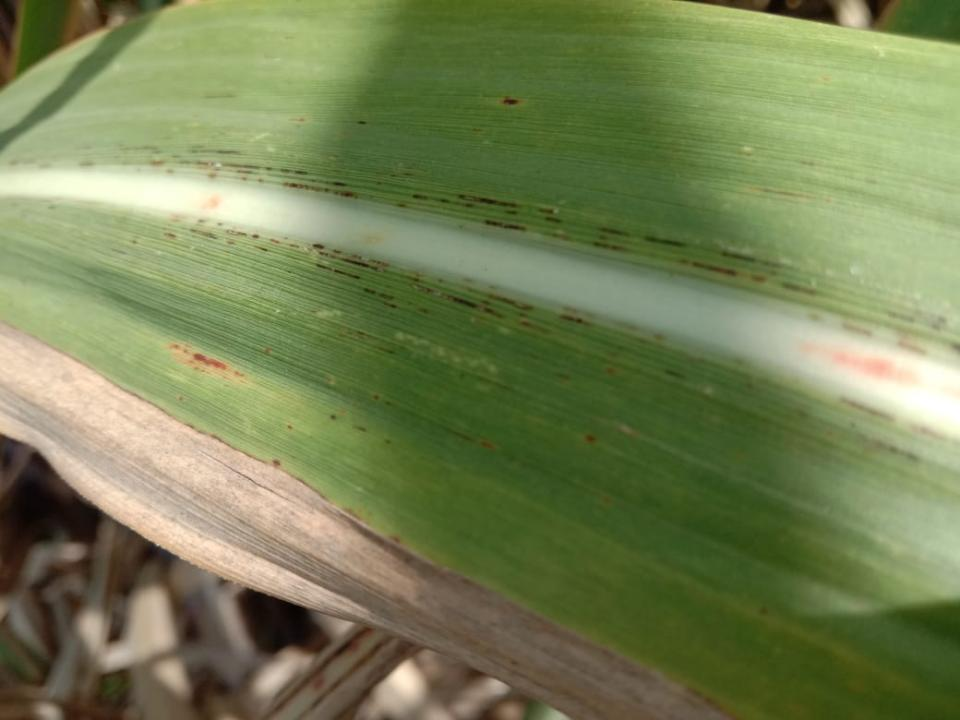RedRot: (800, 341, 920, 387), (200, 193, 220, 214)
Rust: (410, 282, 504, 318), (169, 343, 247, 385), (676, 254, 769, 285), (857, 432, 923, 466), (748, 184, 835, 205), (835, 394, 896, 422), (908, 420, 959, 450), (280, 180, 359, 199), (720, 248, 786, 270), (194, 160, 260, 181), (590, 225, 630, 253), (340, 252, 390, 272), (892, 329, 928, 356), (288, 242, 343, 258), (457, 194, 517, 208), (487, 293, 533, 310), (641, 233, 689, 249), (315, 263, 360, 279), (781, 279, 816, 297), (190, 145, 252, 155), (118, 140, 162, 154), (517, 319, 552, 335), (842, 322, 872, 337), (486, 220, 525, 231), (560, 306, 595, 318), (363, 288, 394, 301), (449, 427, 473, 443), (618, 423, 641, 439), (887, 310, 914, 323), (559, 314, 590, 325), (337, 329, 368, 340), (663, 368, 687, 381), (190, 229, 216, 240), (930, 315, 947, 331), (280, 167, 309, 175), (553, 371, 569, 384), (374, 346, 394, 356), (325, 180, 349, 188), (501, 96, 520, 105), (583, 433, 598, 443), (536, 208, 560, 214), (481, 440, 495, 450), (202, 94, 237, 98), (110, 248, 128, 255), (226, 230, 247, 236), (382, 301, 397, 309), (553, 233, 568, 241), (149, 158, 164, 166), (479, 298, 493, 306), (546, 217, 562, 224), (253, 245, 268, 252), (79, 161, 96, 167), (605, 367, 619, 374), (163, 233, 177, 240), (654, 332, 666, 340), (808, 313, 819, 321), (325, 375, 334, 384), (177, 393, 186, 402), (463, 276, 473, 284), (293, 118, 309, 123), (416, 308, 429, 314), (39, 163, 52, 169), (502, 210, 517, 215), (264, 346, 272, 355), (475, 317, 484, 325), (269, 238, 281, 244), (952, 342, 959, 352), (395, 202, 406, 208), (353, 426, 366, 431), (466, 285, 474, 293), (440, 198, 450, 204), (471, 127, 483, 132), (257, 177, 267, 183), (48, 204, 58, 210), (273, 459, 281, 466), (372, 393, 379, 401), (178, 160, 192, 164), (413, 194, 424, 199), (357, 120, 368, 125), (489, 284, 498, 290), (166, 168, 175, 174), (401, 172, 414, 176), (329, 414, 336, 421), (518, 311, 526, 317), (169, 154, 181, 158), (416, 272, 425, 277), (227, 240, 236, 245), (265, 166, 274, 171), (197, 219, 207, 223), (463, 203, 473, 207), (389, 173, 399, 177), (130, 240, 137, 245), (287, 425, 293, 430), (385, 400, 390, 406), (437, 278, 443, 283), (217, 222, 223, 227), (384, 440, 391, 444), (412, 277, 419, 281), (252, 234, 259, 238), (283, 236, 289, 240), (311, 179, 315, 182)
Yellow: (0, 321, 738, 719)
